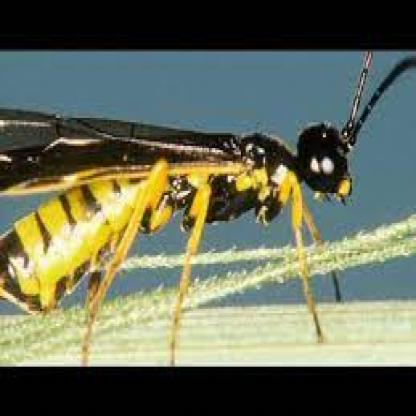sawfly: (2, 51, 416, 362)
